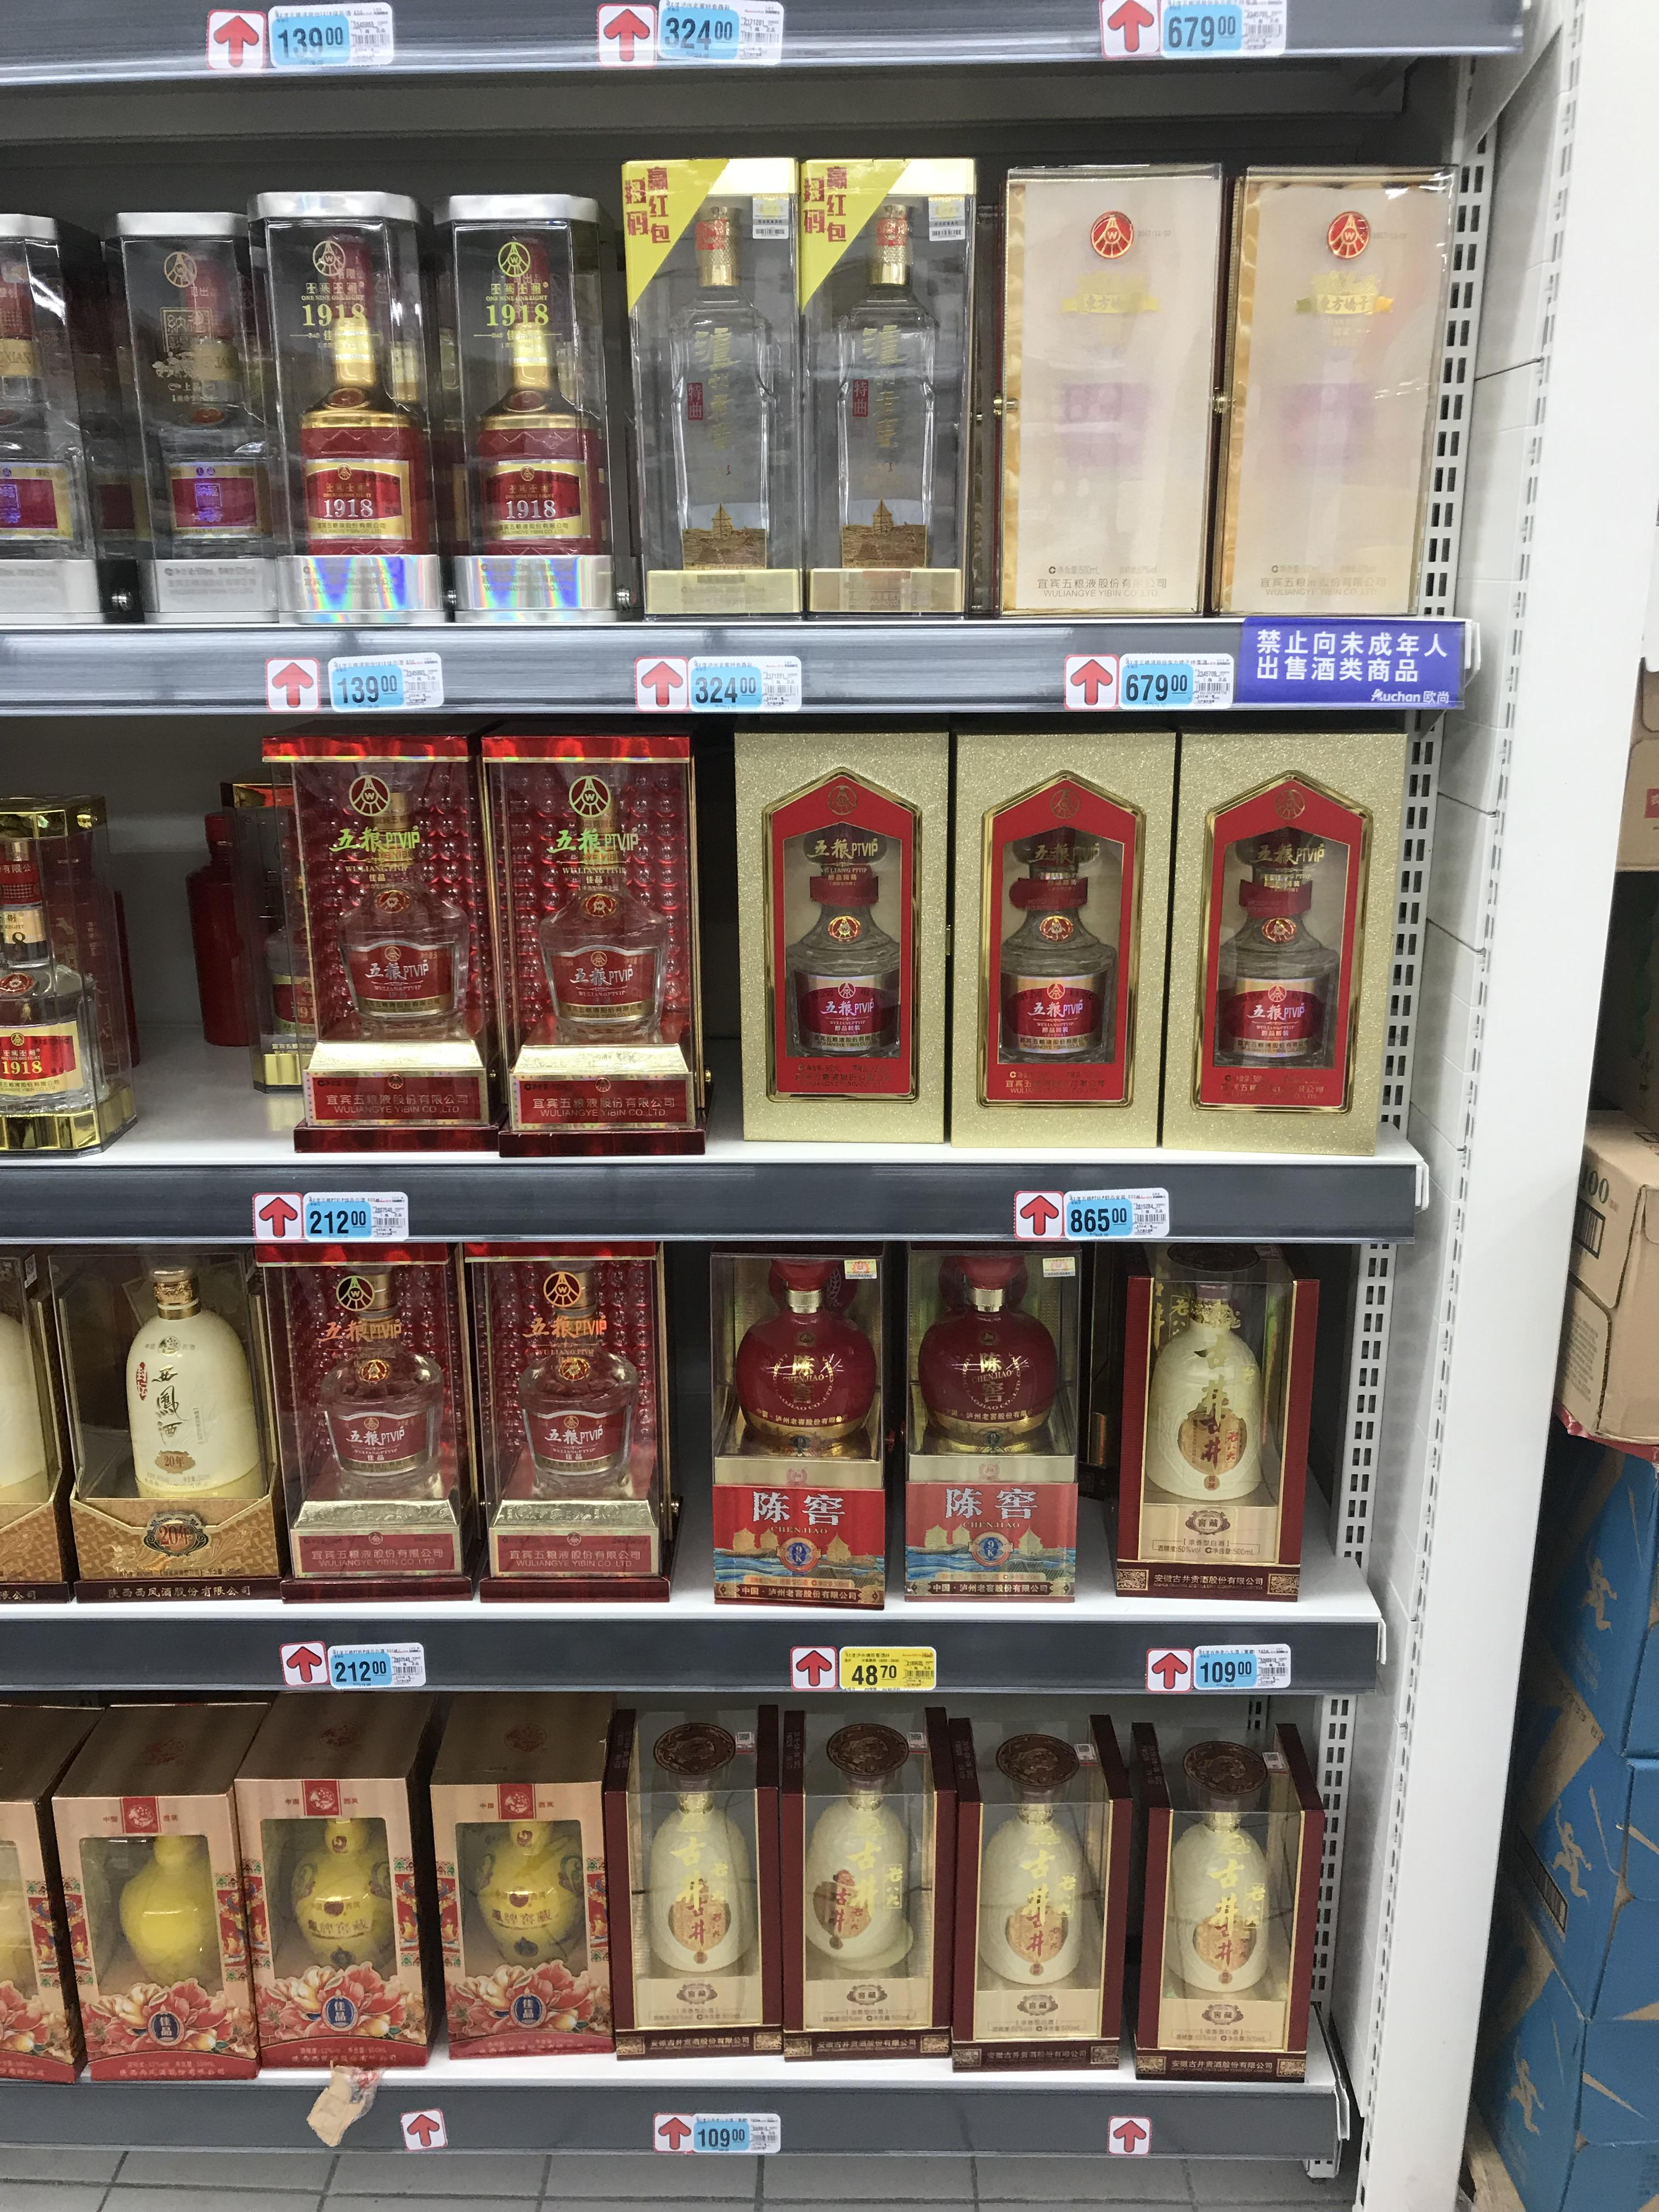bag: (51, 1703, 270, 2081), (253, 1240, 472, 1604), (467, 1237, 681, 1602)
bottle: (1182, 719, 1413, 1160), (951, 721, 1183, 1157), (728, 726, 957, 1150), (51, 1240, 284, 1604), (617, 162, 802, 620), (800, 150, 974, 631), (1107, 1242, 1319, 1602), (1131, 1719, 1317, 2080), (446, 1696, 624, 2057), (906, 1240, 1077, 1606), (774, 1703, 945, 2066), (950, 1716, 1124, 2067), (613, 1709, 784, 2060), (713, 1244, 878, 1604), (0, 792, 139, 1163), (0, 218, 120, 634)
box: (270, 730, 495, 1162), (486, 737, 701, 1158)
jar: (258, 185, 450, 625), (441, 199, 624, 624), (113, 209, 286, 629)
others: (1213, 143, 1486, 613), (983, 167, 1236, 622), (239, 1695, 434, 2067)
